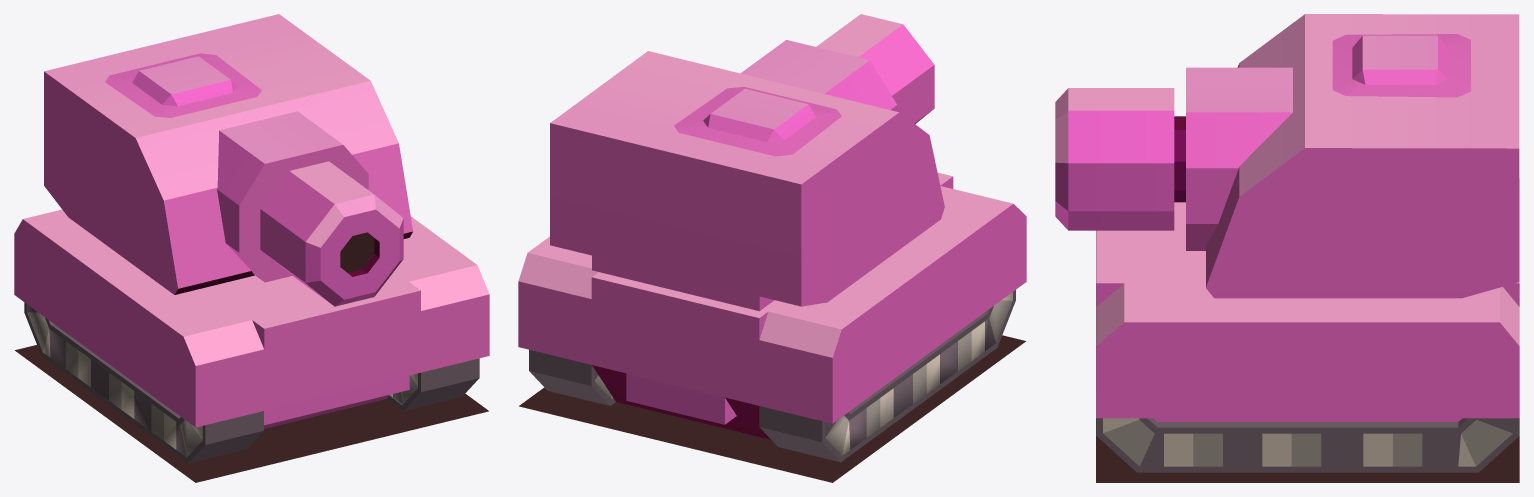
Rendered from TankMesh.PinkCosmos.glb.
3 renders of one model, left to right at view 1: azimuth 30°, elevation 25°; view 2: azimuth 150°, elevation 25°; view 3: azimuth 270°, elevation 25°, orthographic. The views are drawn at different scales.
Parts seen in each view (by area): view 1: TankMesh.PinkCosmos; view 2: TankMesh.PinkCosmos; view 3: TankMesh.PinkCosmos.
Part boxes in pixels (<box>): TankMesh.PinkCosmos: <box>14,14,489,482</box>; TankMesh.PinkCosmos: <box>518,14,1026,482</box>; TankMesh.PinkCosmos: <box>1055,14,1519,482</box>.
Bounding box in the file's own units: 1.5 × 1.38 × 1.76.
1 material, 1 textured.
